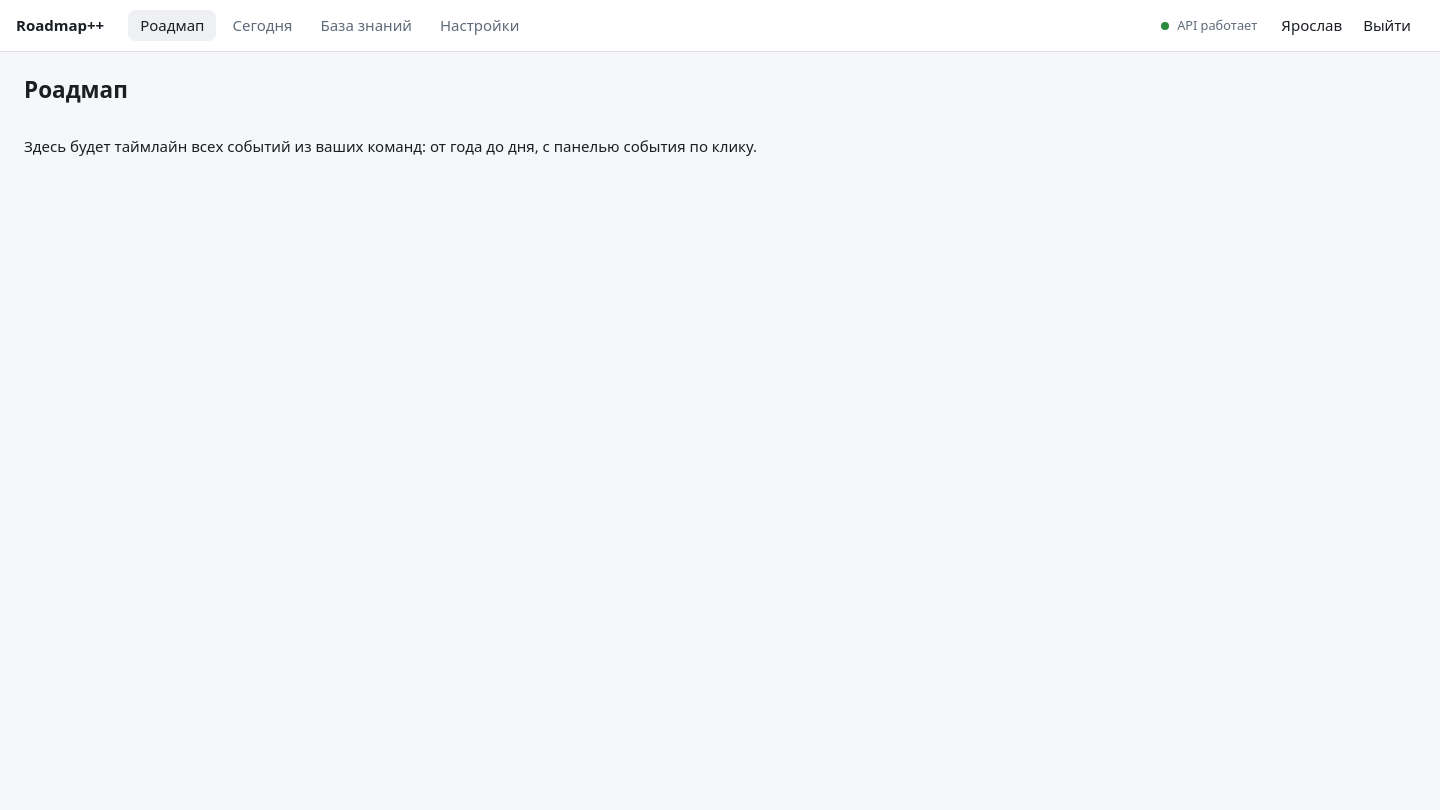
Test: routes › returns to the login page after logout
The width and height of the screenshot is (1440, 810).
Click the button "Выйти": point(1387, 26) [1350, 8, 1424, 42]
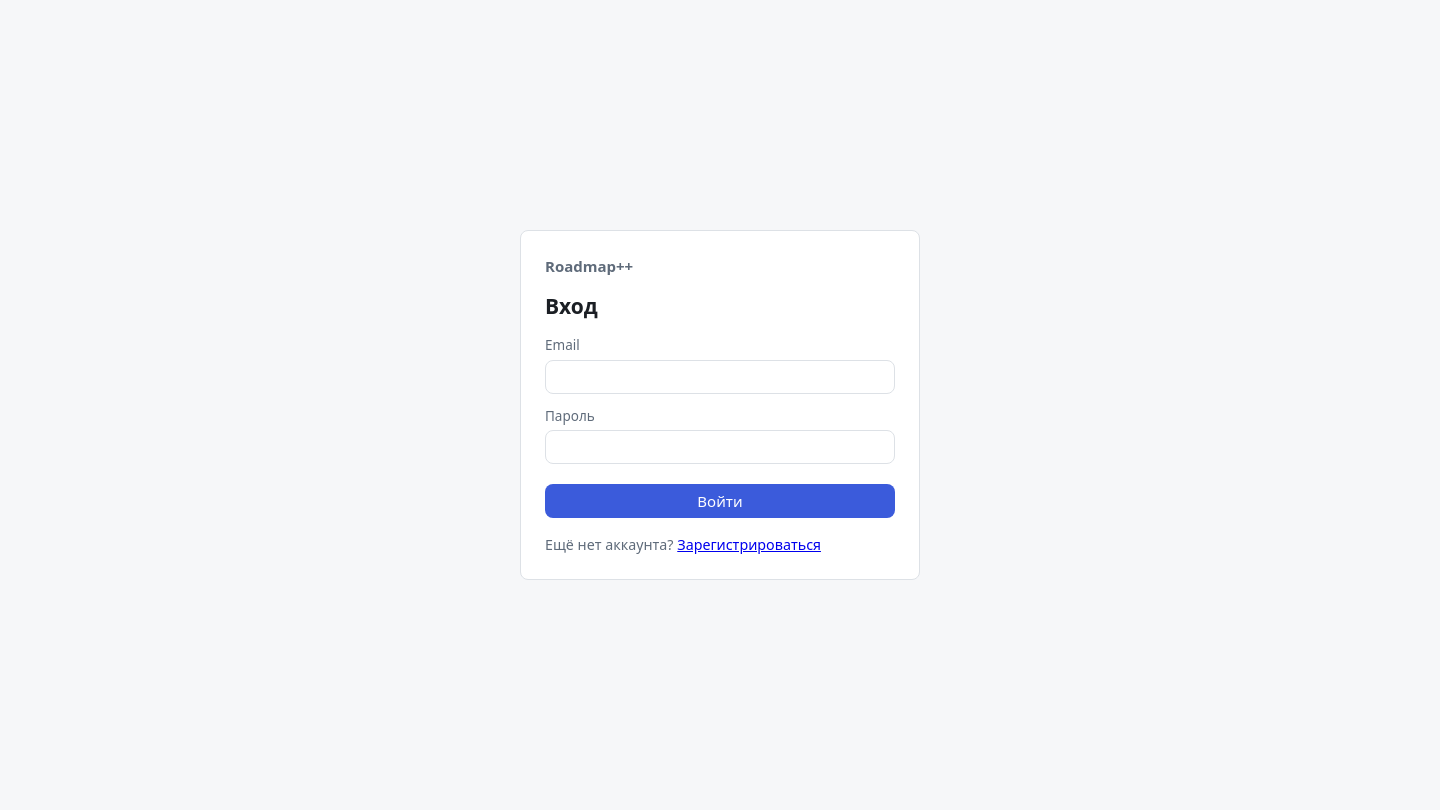
Check: the heading "Вход" is shown, box [545, 292, 598, 320]
